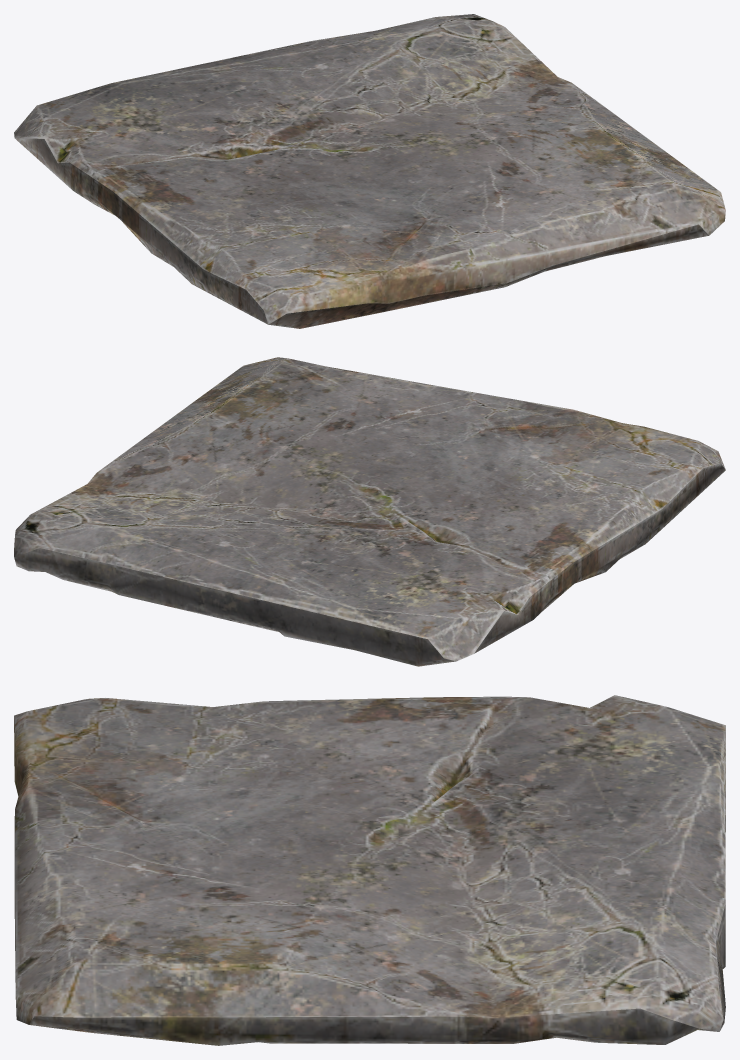
Rendered from SM_GroundPlate04.FBX.
3 views of the same model, one above another, from view 1: azimuth 30°, elevation 25°; view 2: azimuth 150°, elevation 25°; view 3: azimuth 270°, elevation 25° (orthographic). The views are drawn at different scales.
Parts seen in each view (by area): view 1: SM_GroundPlate04; view 2: SM_GroundPlate04; view 3: SM_GroundPlate04.
Part boxes in pixels (x1,y1,x2,y2): SM_GroundPlate04: (14, 14, 725, 328); SM_GroundPlate04: (14, 357, 725, 666); SM_GroundPlate04: (14, 695, 725, 1045).
Size of the model in its own units: 603 by 601 by 51.56.
